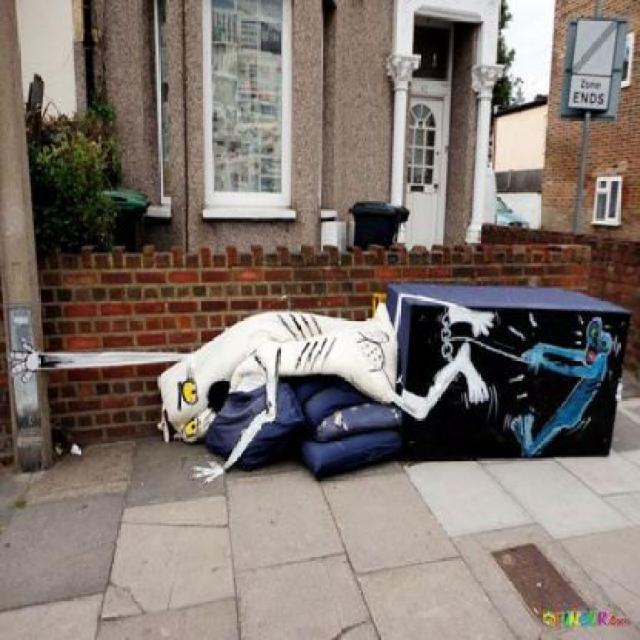garbage: (204, 377, 401, 471)
